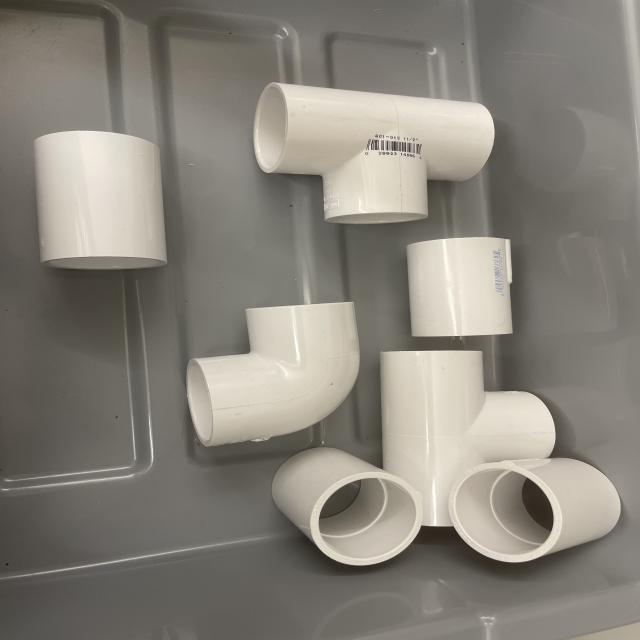L Joint: (185, 302, 361, 450)
T Joint: (252, 83, 495, 227)
